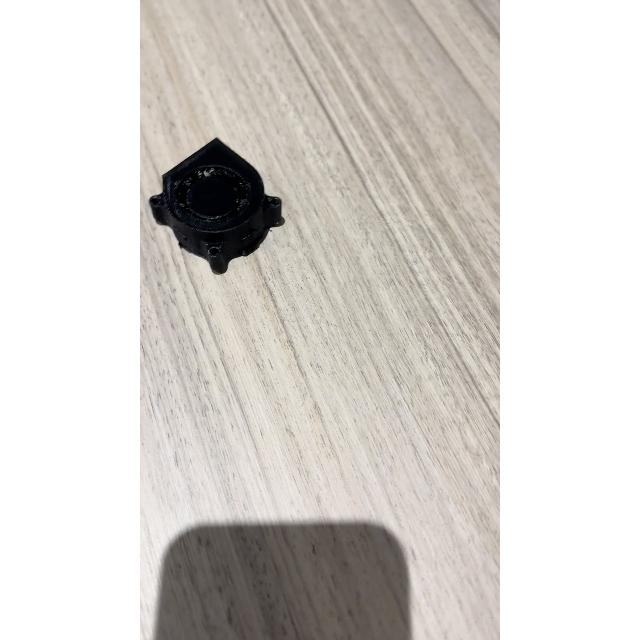Pieza_3: (140, 127, 296, 285)
